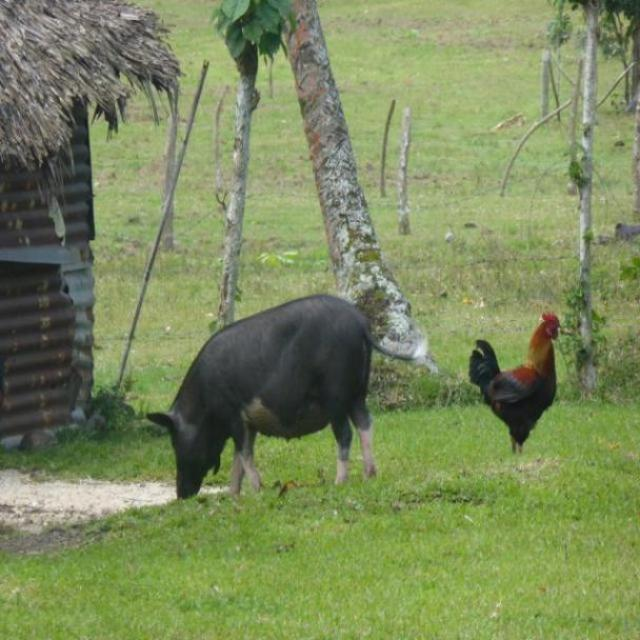Chicken: (470, 311, 561, 460)
